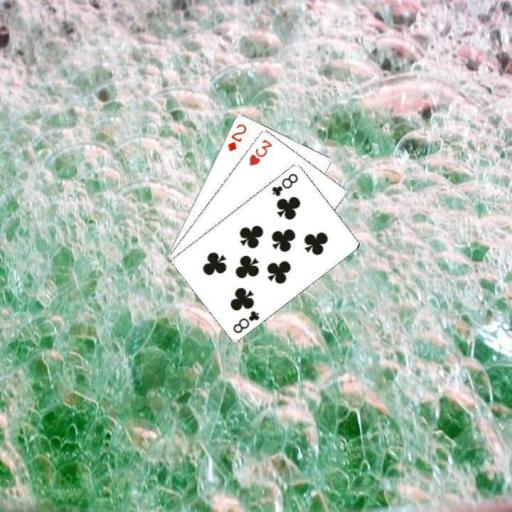card-corner: (246, 136, 274, 167), (268, 170, 299, 198), (230, 307, 261, 334), (225, 120, 248, 153)
